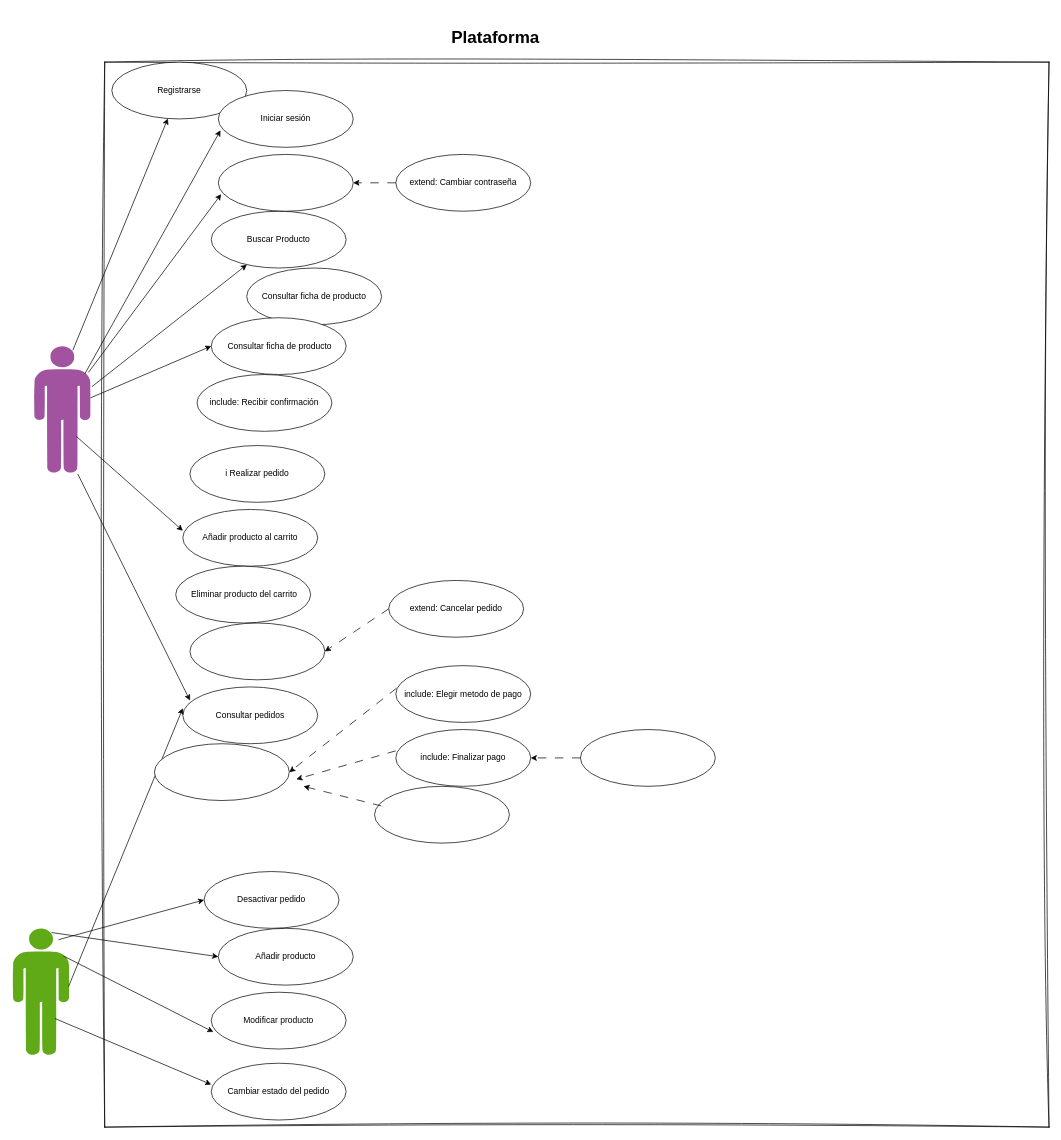
Image size: 1061x1140. Some labels were removed from this diagram. Each missing label, with the box of its shape:
Administrador: (12, 928, 69, 1056)
Cancelar pedido: (189, 622, 325, 680)
extend: REcibir confirmación: (580, 729, 715, 786)
Finalizar pago: (154, 743, 289, 801)
include: Comunicación con sistema de pago: (374, 786, 509, 843)
Modificar perfil: (218, 154, 353, 211)
Usuario: (33, 345, 91, 474)
